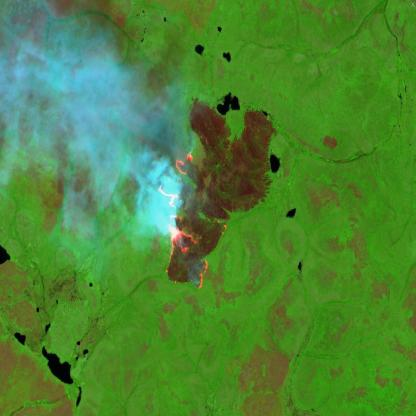fire: (157, 149, 209, 291)
